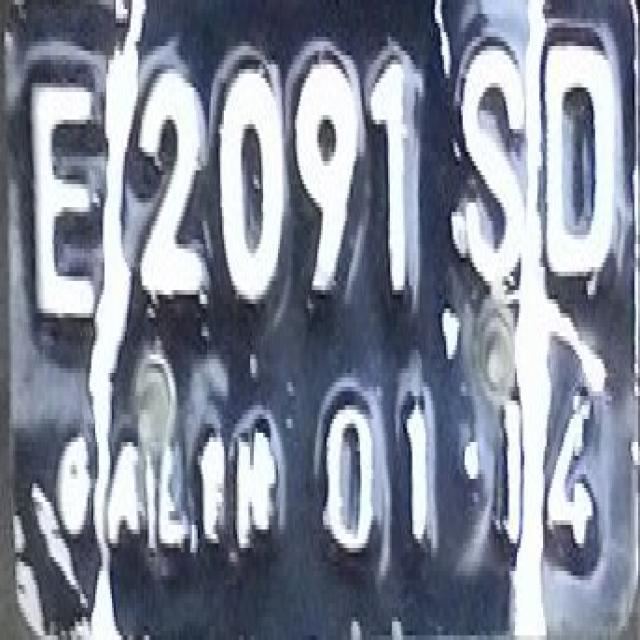plate: (2, 0, 638, 626)
